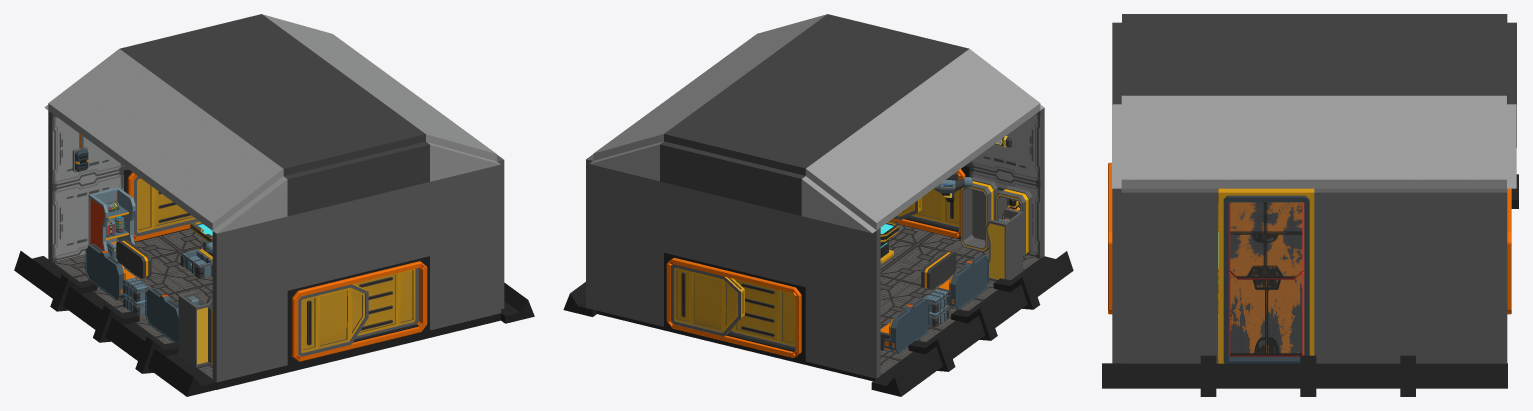
The model's file is All room.fbx.
The picture shows the model from 3 angles, left to right: view 1: azimuth 30°, elevation 25°; view 2: azimuth 150°, elevation 25°; view 3: azimuth 270°, elevation 25°; orthographic projection. The views are drawn at different scales.
Visible parts, largest first — view 1: Cube.052, Cube.041, Cube.053, Cube.162, Cube.021, Cube.042, Cube.059, Cube.058, Cube.047, Cube.055, Cube.054, Cube.046 (+15 smaller); view 2: Cube.052, Cube.041, Cube.053, Cube.162, Cube.021, Cube.001, Cube.005, Cube.002, Cube.013, Cube.015, Cube.014, Cube.051 (+19 smaller); view 3: Cube.053, Cube.052, Cube.076, Cube.038, Cube.037, Cube.040, Cube.036, Cube.060, Cube.035, Cube.024, Cube.065, Cube.064 (+4 smaller).
Part boxes in pixels (box(x1,y1,x2,y2)): Cube.052: box(120, 14, 429, 216); Cube.041: box(44, 49, 287, 233); Cube.053: box(262, 14, 500, 181); Cube.162: box(14, 251, 216, 396); Cube.021: box(53, 228, 358, 389); Cube.042: box(212, 291, 287, 382); Cube.059: box(212, 216, 287, 307); Cube.058: box(287, 199, 358, 290); Cube.047: box(430, 239, 500, 330); Cube.055: box(359, 182, 429, 273); Cube.054: box(430, 164, 500, 255); Cube.046: box(298, 284, 368, 356); Cube.052: box(660, 14, 968, 215); Cube.041: box(801, 49, 1044, 233); Cube.053: box(590, 14, 826, 181); Cube.162: box(871, 251, 1073, 396); Cube.021: box(739, 224, 1039, 381); Cube.001: box(805, 287, 880, 378); Cube.005: box(805, 217, 880, 304); Cube.002: box(593, 235, 663, 326); Cube.013: box(734, 200, 805, 287); Cube.015: box(593, 165, 663, 252); Cube.014: box(664, 182, 734, 269); Cube.051: box(671, 264, 744, 336); Cube.053: box(1112, 95, 1516, 188); Cube.052: box(1112, 14, 1516, 147); Cube.076: box(1102, 355, 1507, 396); Cube.038: box(1314, 188, 1410, 279); Cube.037: box(1410, 188, 1506, 279); Cube.040: box(1121, 188, 1217, 279); Cube.036: box(1410, 280, 1506, 363); Cube.060: box(1314, 280, 1410, 363); Cube.035: box(1121, 280, 1217, 363); Cube.024: box(1228, 271, 1304, 356); Cube.065: box(1228, 202, 1304, 279); Cube.064: box(1218, 188, 1314, 363).
Bounding box in the file's own units: 9.98 × 5.6 × 8.65.
